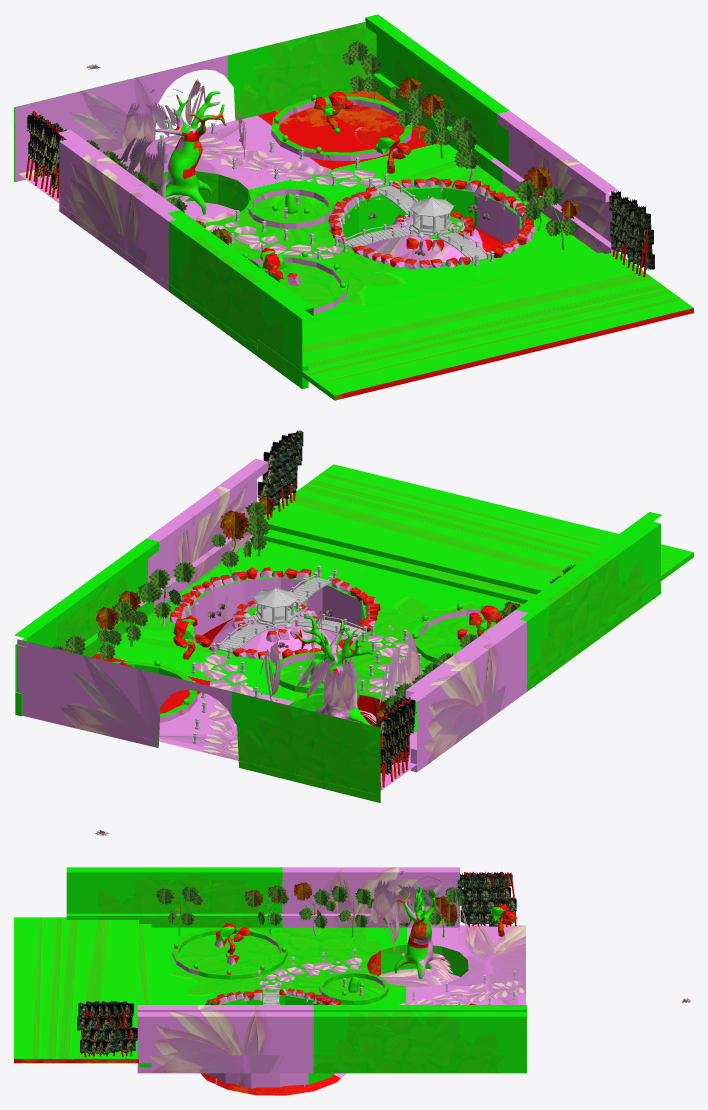
Rendered from 7.Garden.fbx.
3 renders of one model, top to bottom at view 1: azimuth 30°, elevation 25°; view 2: azimuth 150°, elevation 25°; view 3: azimuth 270°, elevation 25°, orthographic. The views are drawn at different scales.
Visible parts, largest first — view 1: Plane, Cube.016, Cube.106, Plane.003, Cube.107, tree low, Cylinder.032, Cylinder, Cube.150, Cube, Cylinder.129, Cylinder.127 (+1 smaller); view 2: Cube.016, Plane, Plane.004, Cube.106, Cube.107, Cube, tree low, Cube.150, Cylinder, Cylinder.032, Cylinder.127, Cylinder.129 (+1 smaller); view 3: Cube.107, Plane, Cube.106, Cube.016, tree low, Cylinder.127, Cube.150, Cylinder, Cylinder.129, Plane.612, Cube.
Part boxes in pixels (box(x1,y1,x2,y2)): Plane: box(18, 89, 597, 340); Cube.016: box(249, 252, 693, 400); Cube.106: box(58, 129, 313, 389); Plane.003: box(15, 22, 376, 181); Cube.107: box(365, 14, 618, 254); tree low: box(155, 91, 226, 214); Cylinder.032: box(271, 96, 412, 160); Cylinder: box(364, 215, 503, 263); Cube.150: box(116, 79, 205, 198); Cube: box(121, 89, 247, 159); Cylinder.129: box(248, 187, 333, 228); Cylinder.127: box(247, 254, 348, 314); Cube.016: box(263, 464, 693, 624); Plane: box(33, 541, 607, 792); Plane.004: box(18, 639, 380, 802); Cube.106: box(405, 512, 661, 772); Cube.107: box(14, 458, 268, 716); Cube: box(290, 610, 357, 710); tree low: box(294, 616, 373, 725); Cube.150: box(259, 625, 421, 706); Cylinder: box(203, 606, 347, 654); Cylinder.032: box(112, 661, 197, 722); Cylinder.127: box(412, 606, 504, 663); Cylinder.129: box(273, 652, 358, 693); Cube.107: box(137, 1005, 526, 1073); Plane: box(151, 925, 525, 1088); Cube.106: box(66, 867, 459, 927); Cube.016: box(14, 917, 151, 1067); tree low: box(394, 883, 444, 978); Cylinder.127: box(172, 927, 287, 979); Cube.150: box(370, 871, 469, 946); Cylinder: box(201, 1073, 346, 1095); Cylinder.129: box(319, 971, 388, 1004); Plane.612: box(401, 953, 453, 986); Cube: box(384, 881, 459, 951).
Size of the model in its own units: 5359 by 2164 by 10540.
